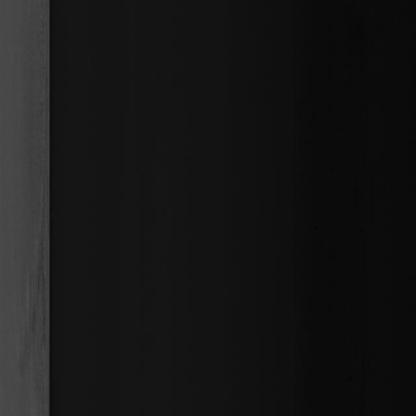silk_spot: (13, 195, 46, 377)
